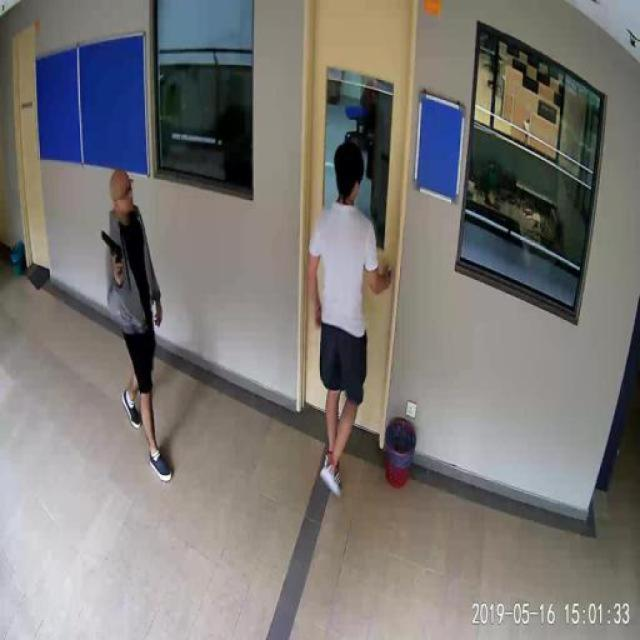pistol: (98, 227, 122, 278)
